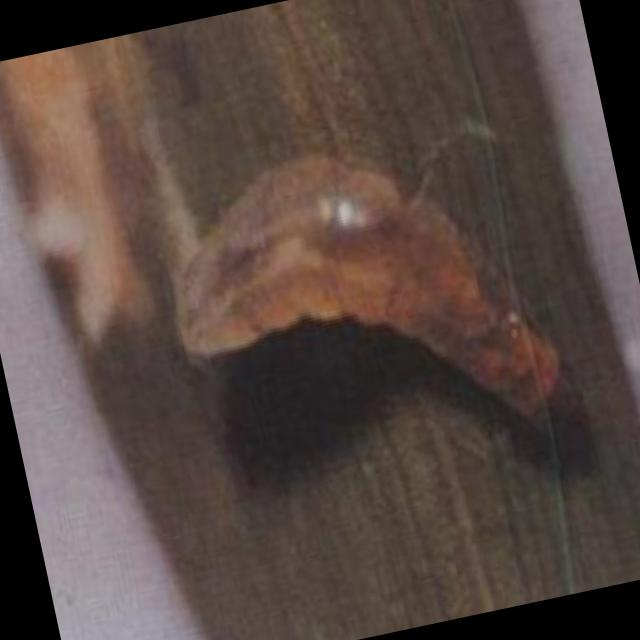whorl-maggot: (146, 100, 576, 503)
